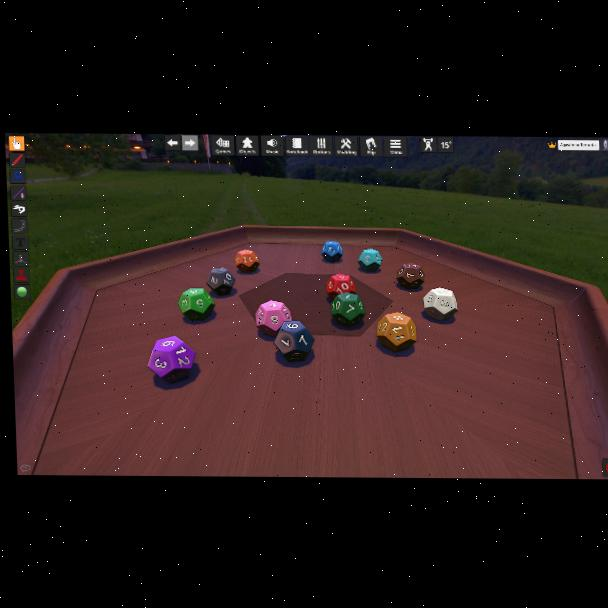d12: (147, 335, 197, 383), (275, 320, 316, 362), (376, 313, 417, 352), (177, 287, 215, 322), (255, 300, 291, 336), (423, 287, 458, 321), (329, 293, 363, 326), (207, 267, 236, 296), (325, 274, 356, 299), (396, 263, 425, 289), (235, 250, 260, 274), (357, 249, 382, 273), (321, 242, 343, 263)
